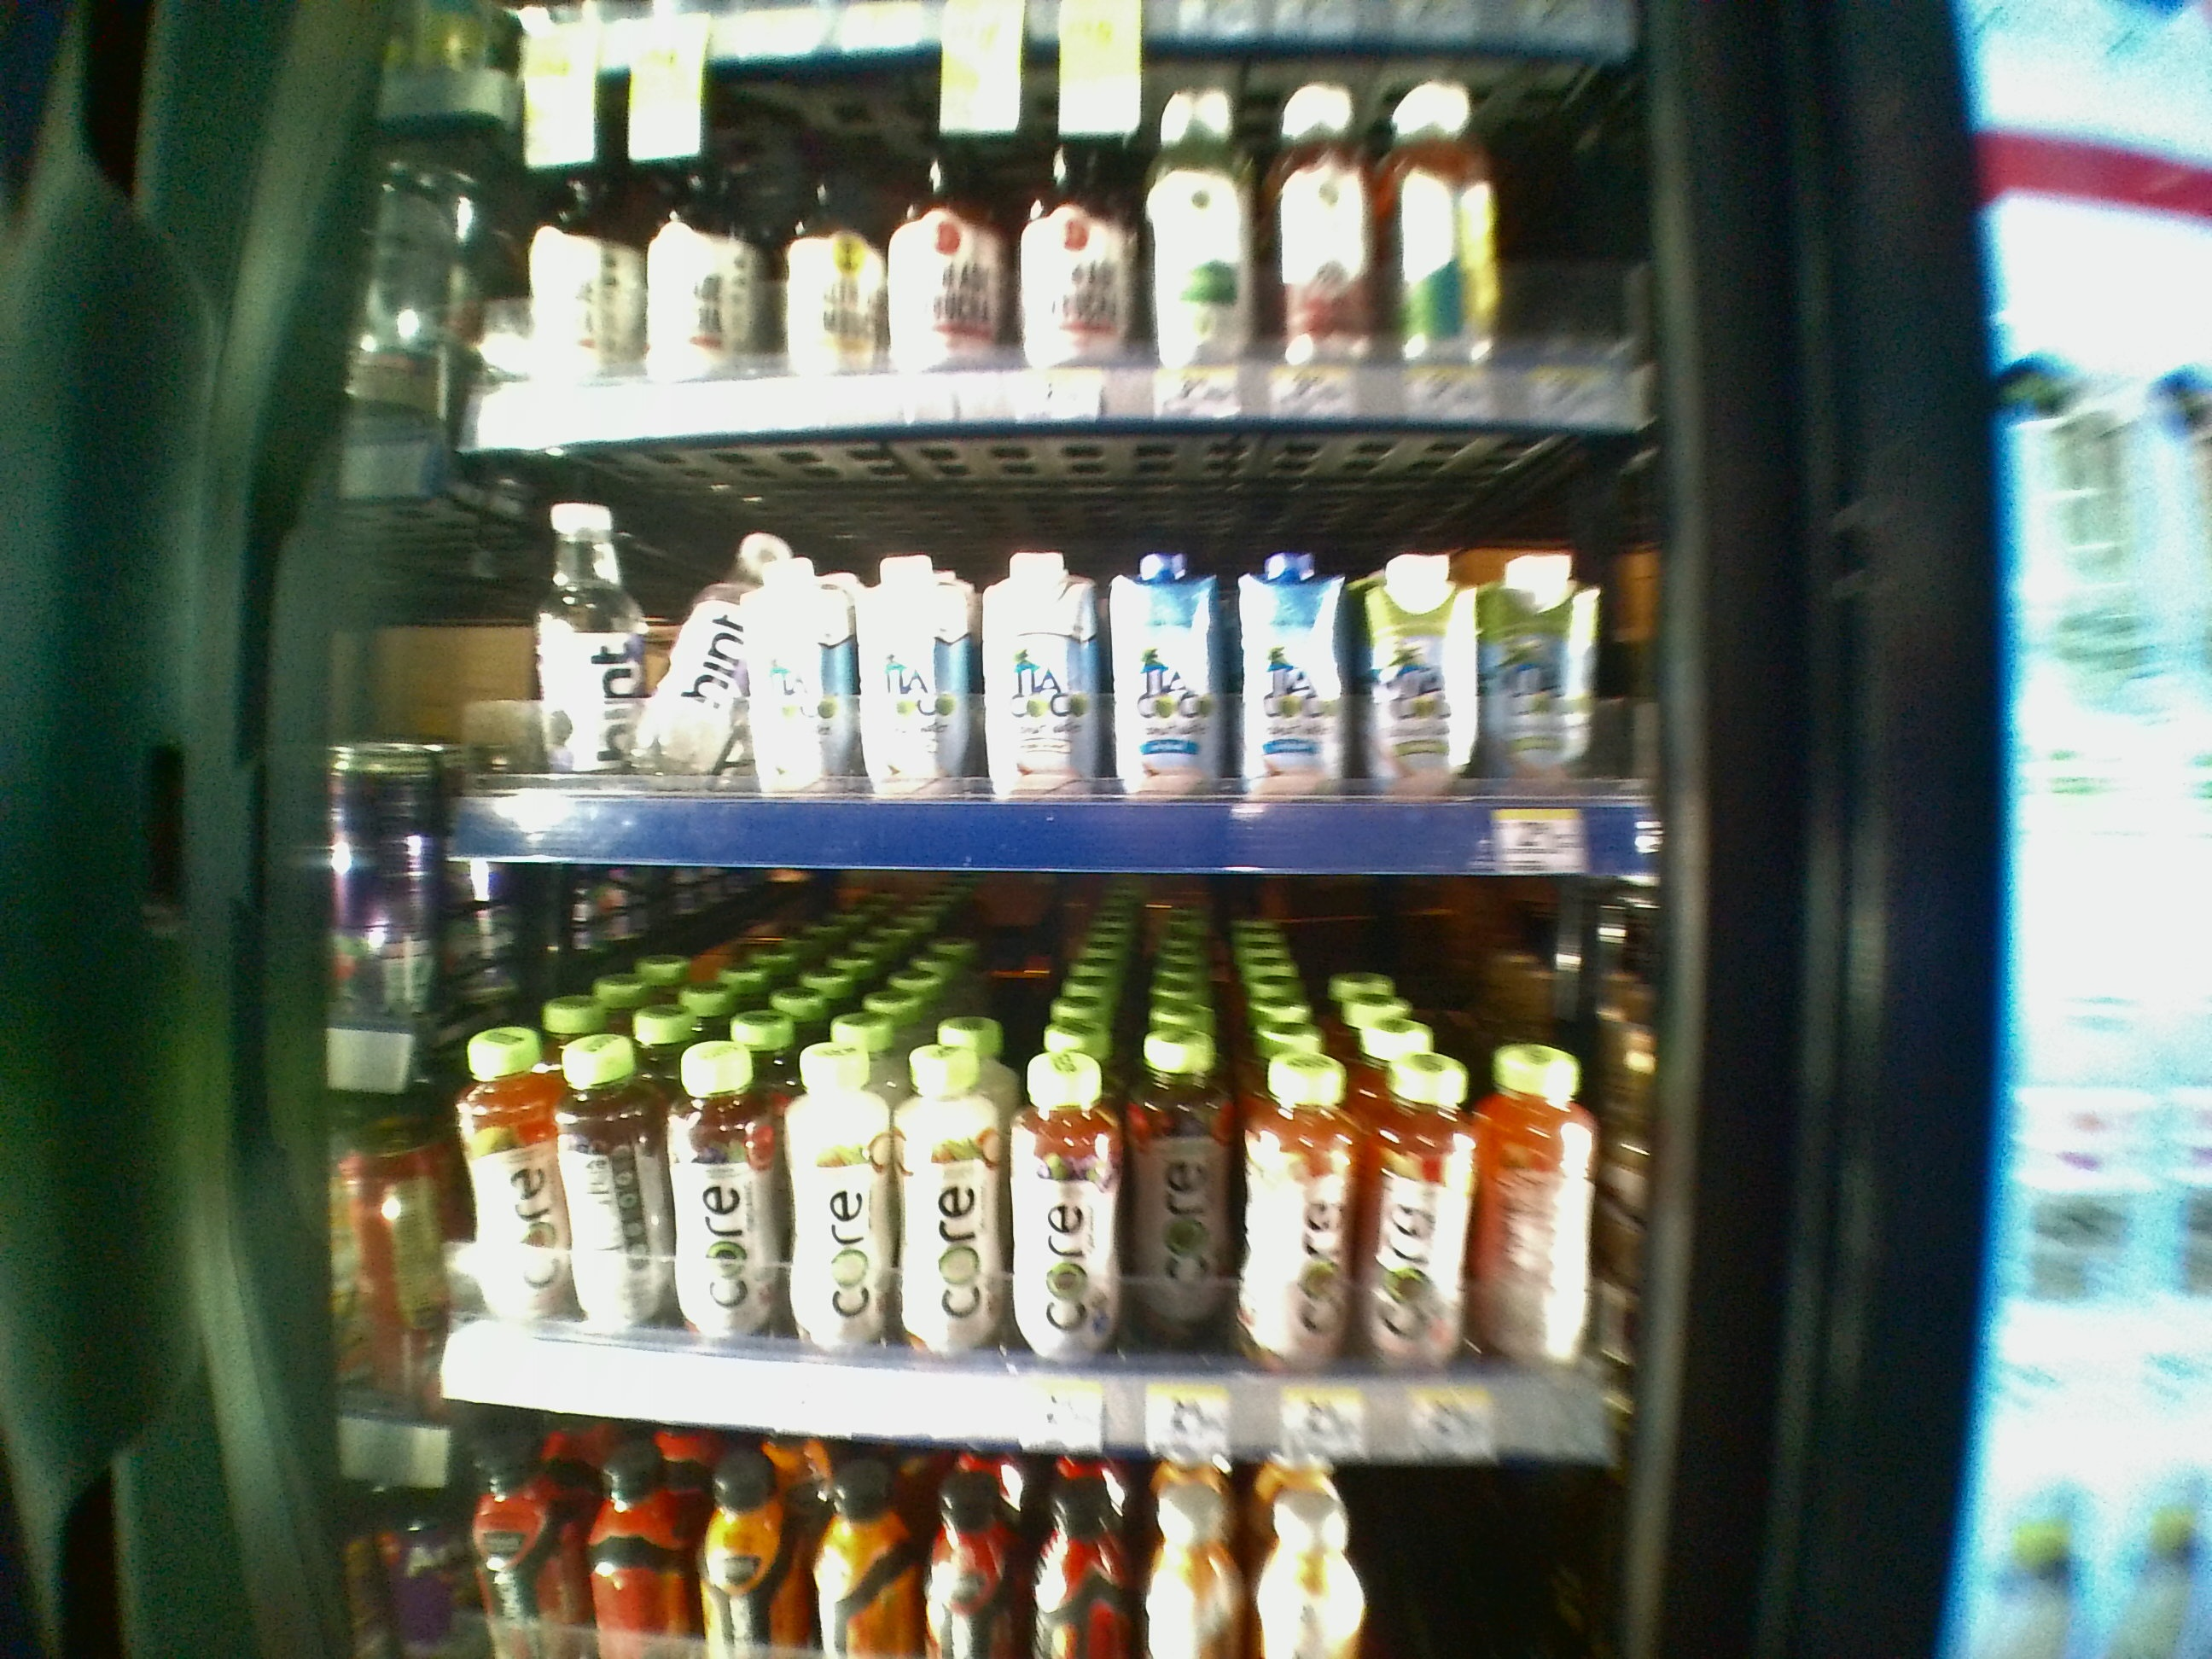shelf: (343, 854, 1683, 1453), (347, 425, 1691, 864)
